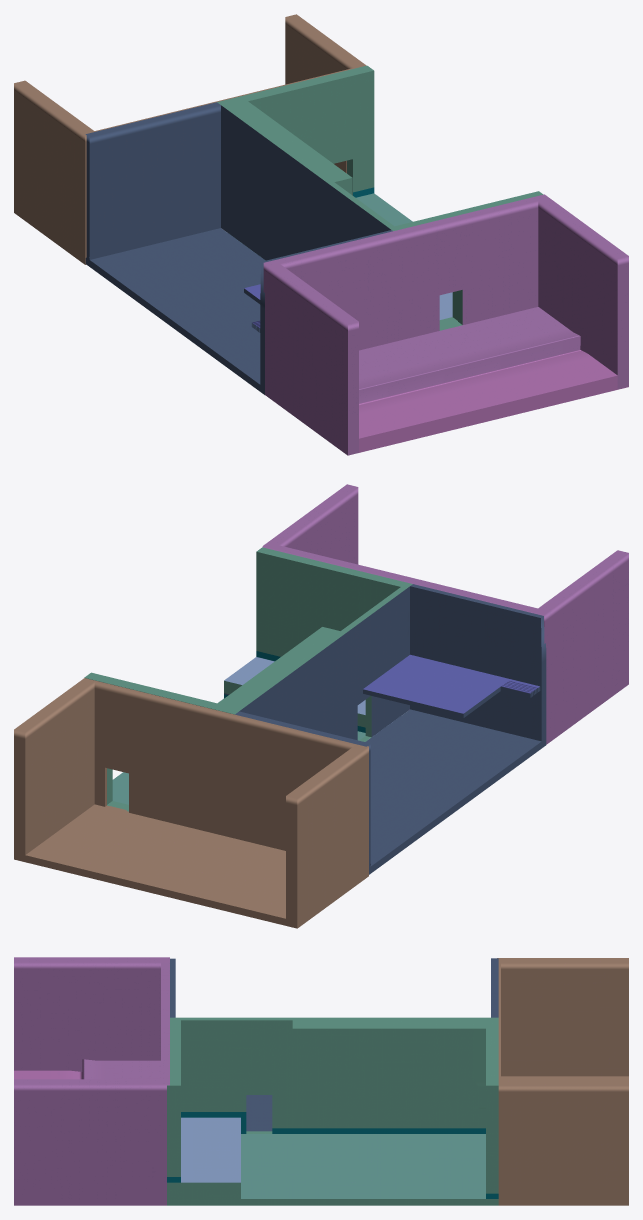
File: rooms_1-transformed.glb
The picture shows the model from 3 angles, top to bottom: view 1: azimuth 30°, elevation 25°; view 2: azimuth 150°, elevation 25°; view 3: azimuth 270°, elevation 25°; orthographic projection. The views are drawn at different scales.
Visible parts, largest first — view 1: polySurface1; view 2: polySurface1, polySurface7; view 3: polySurface1, polySurface7.
Part boxes in pixels (left/top/right/bottom): polySurface1: left=14, top=14, right=628, bottom=455; polySurface1: left=14, top=484, right=628, bottom=928; polySurface7: left=224, top=657, right=392, bottom=722; polySurface1: left=14, top=957, right=628, bottom=1205; polySurface7: left=181, top=1117, right=240, bottom=1182.
Bounding box in the file's own units: 0.6186 × 0.2745 × 1.26.
2 materials, 2 textured.
